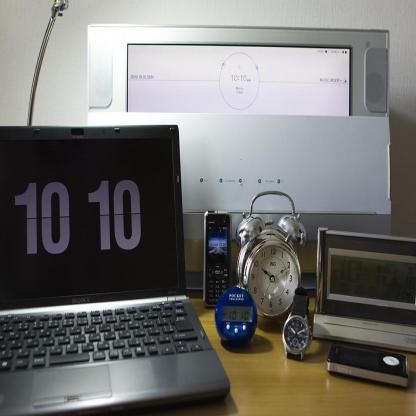board: (8, 116, 237, 416)
